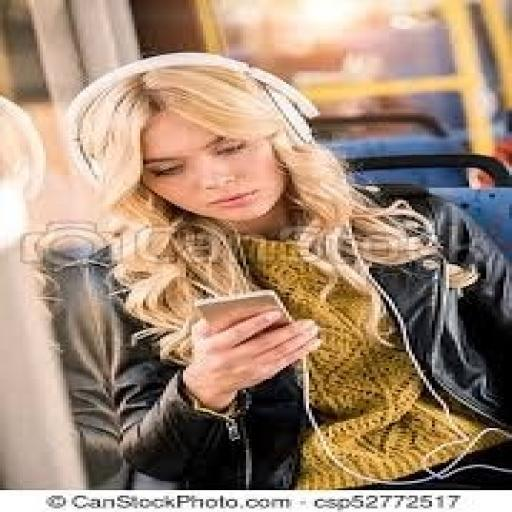texting: (29, 51, 509, 490)
